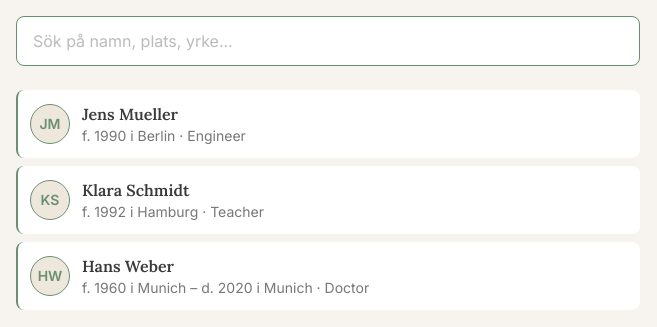
SearchView › filters persons when typing a search query
Type "Jens" into the field with placeholder "Sök på namn, plats, yrke..." at (328, 41), box [16,16,640,66]
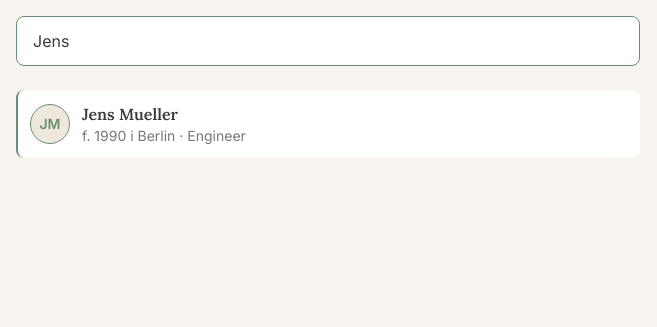
Expected: the text "Jens Mueller" is shown, [82,104,178,124]
Expected: the link "Hans" is gone
